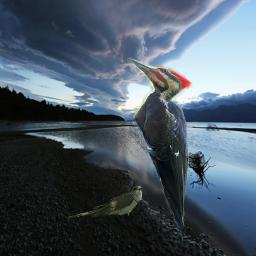Cuckoo: (67, 185, 142, 219)
Woodpecker: (125, 57, 193, 235)
